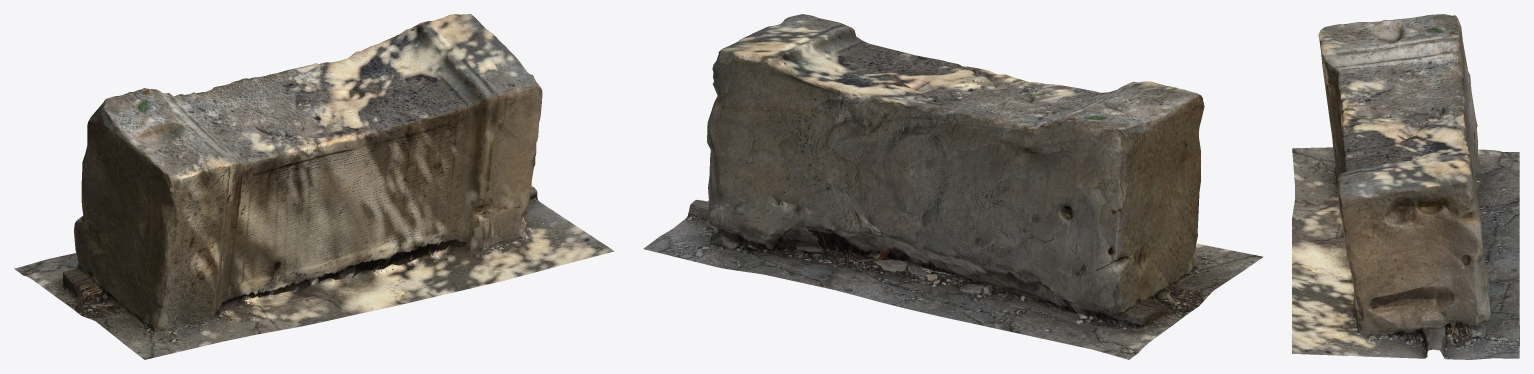
The model's file is latin-inscription-slab-water-temple-of-zaghouan.glb.
The picture shows the model from 3 angles, left to right: view 1: azimuth 30°, elevation 25°; view 2: azimuth 150°, elevation 25°; view 3: azimuth 270°, elevation 25°; orthographic projection. The views are drawn at different scales.
Parts seen in each view (by area): view 1: Object_3; view 2: Object_3; view 3: Object_3.
Boxes of the visible parts, <box> form: Object_3: <box>14,14,614,359</box>; Object_3: <box>643,14,1263,359</box>; Object_3: <box>1292,14,1519,359</box>.
Size of the model in its own units: 2.07 by 0.8095 by 0.9929.
1 material, 1 textured.
